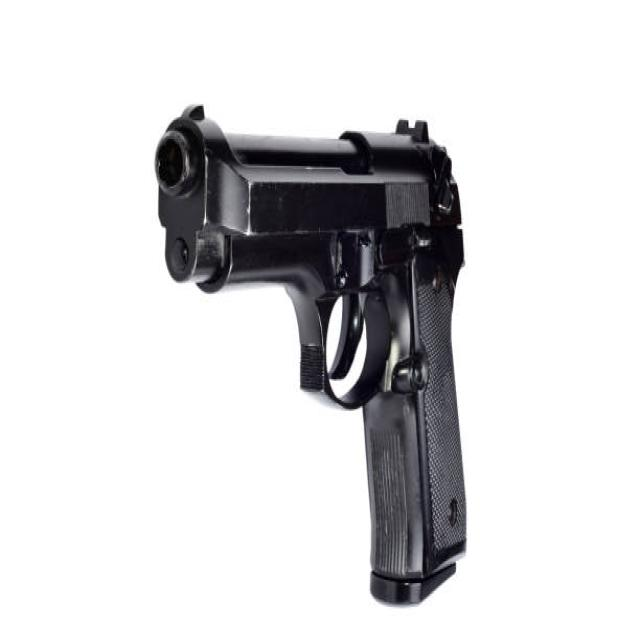pistol: (154, 99, 477, 614)
